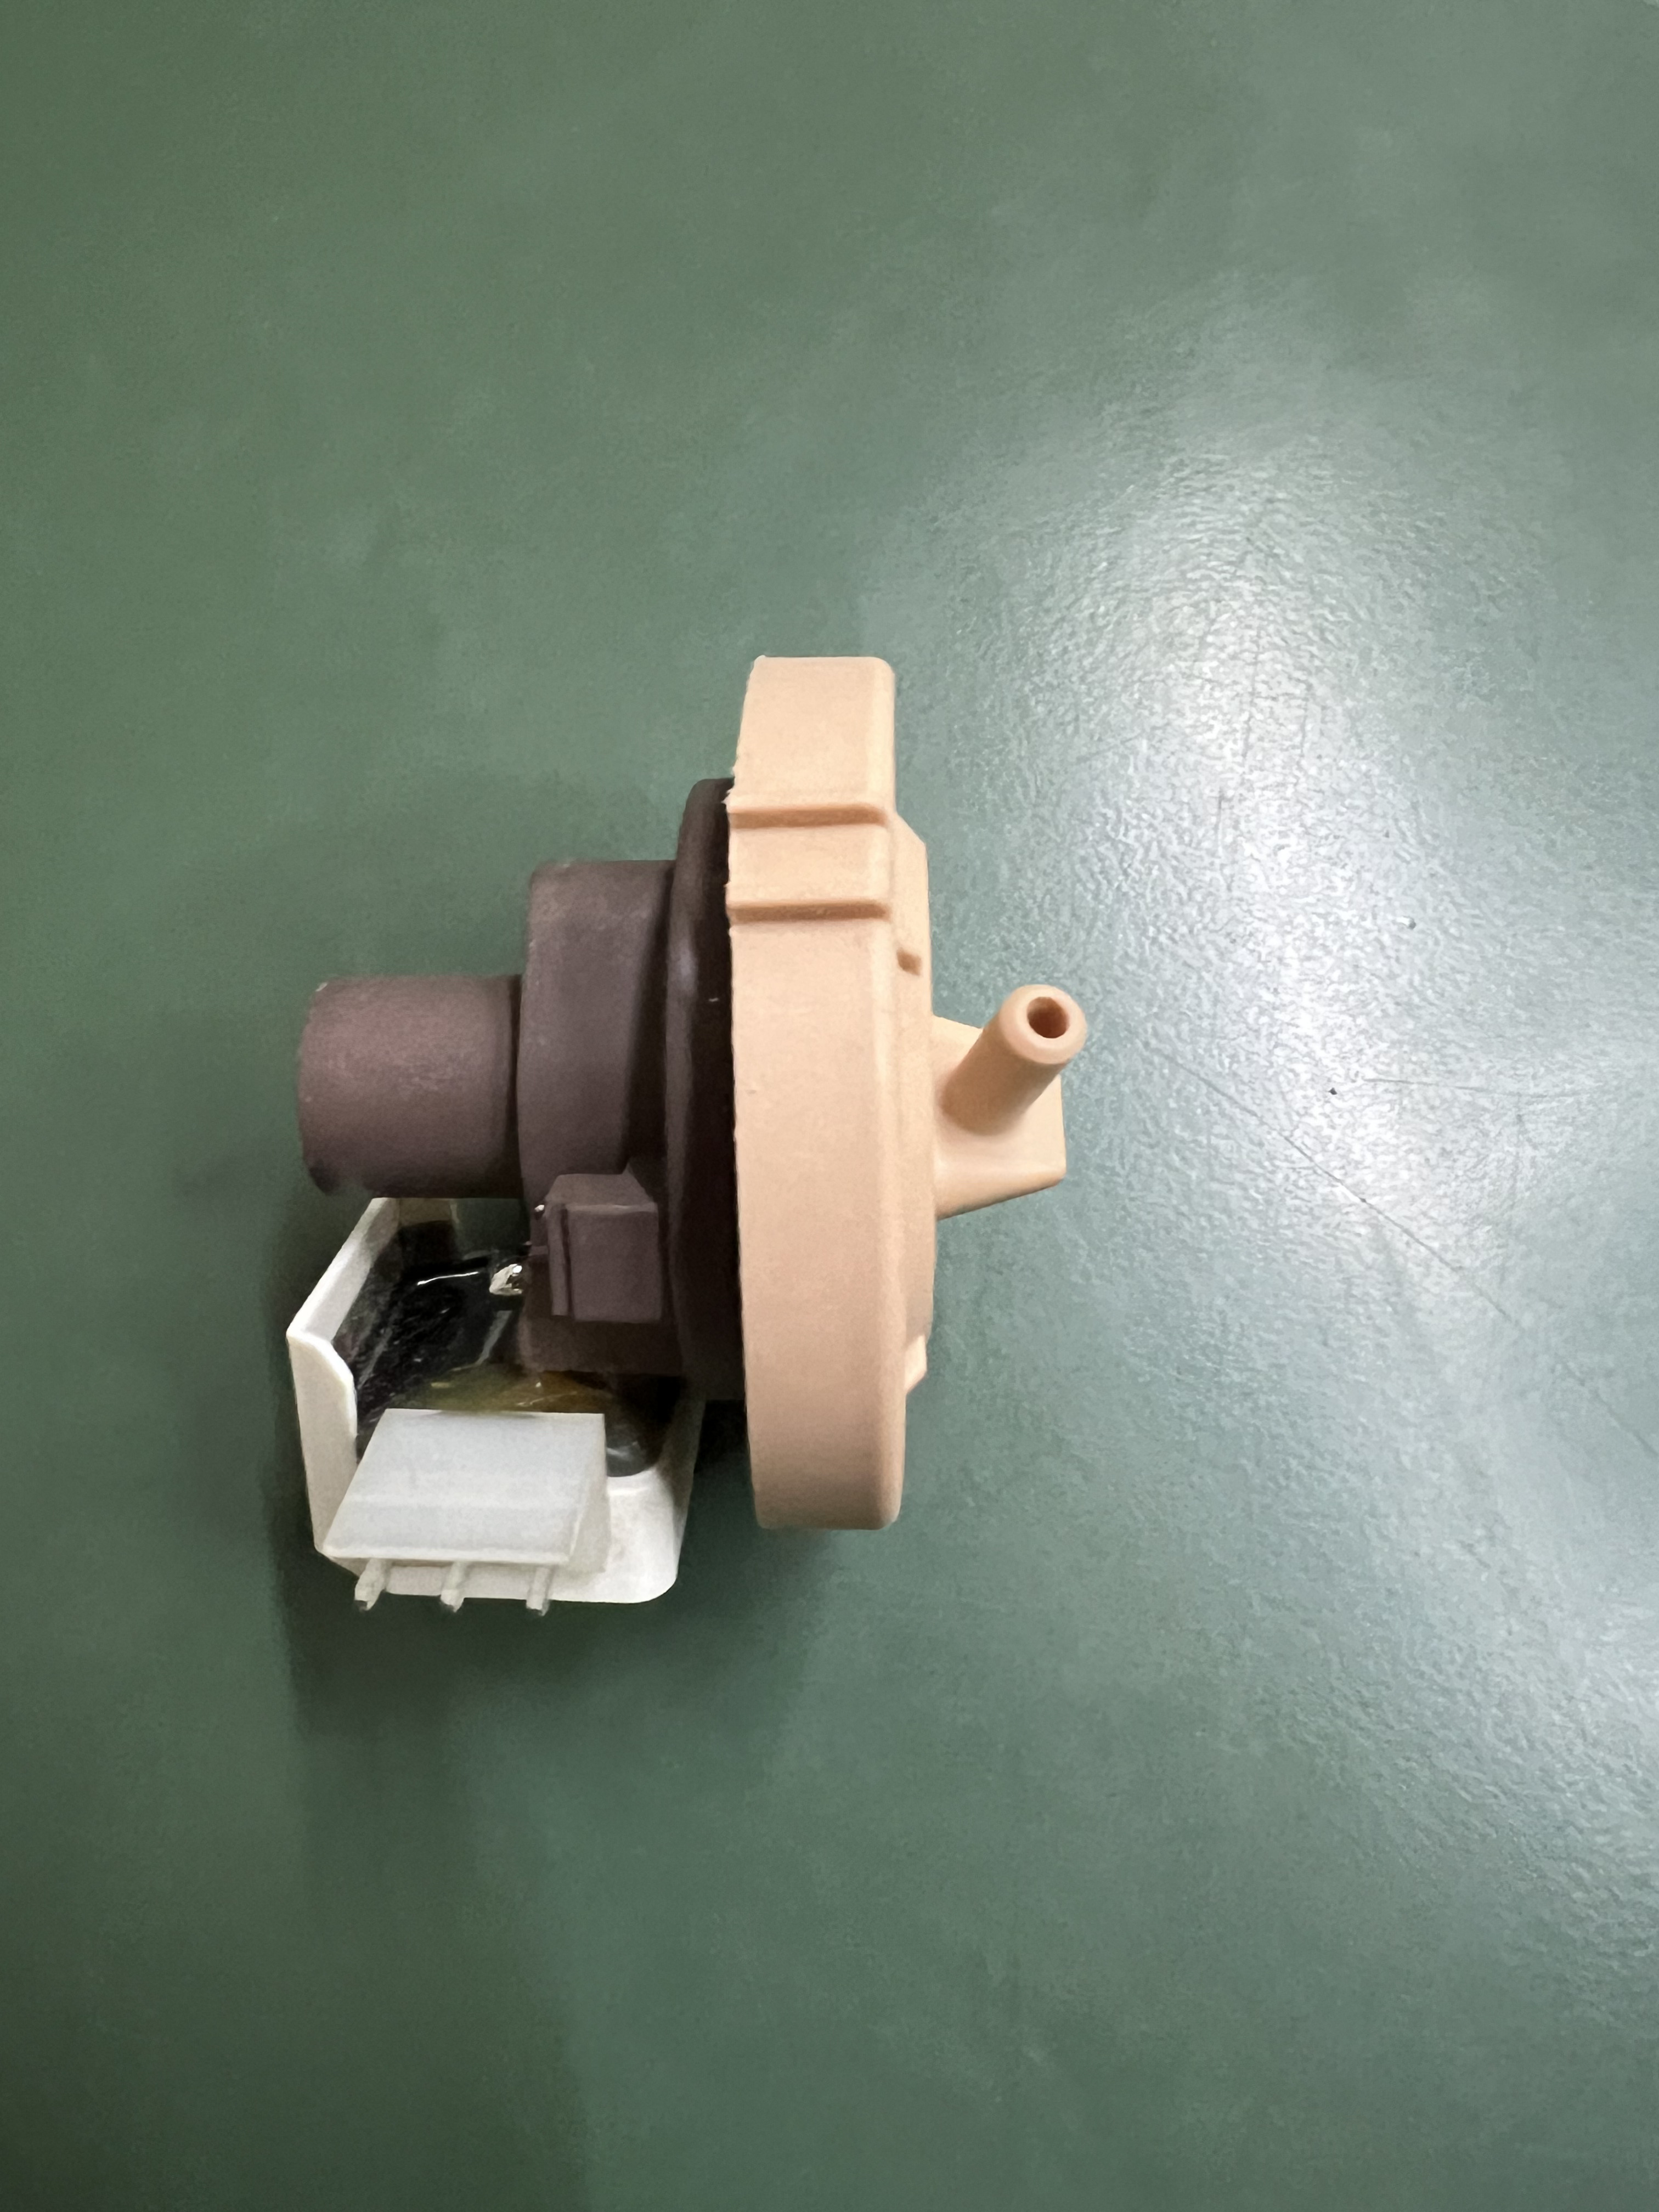pressure_sensor: (228, 669, 1117, 1623)
